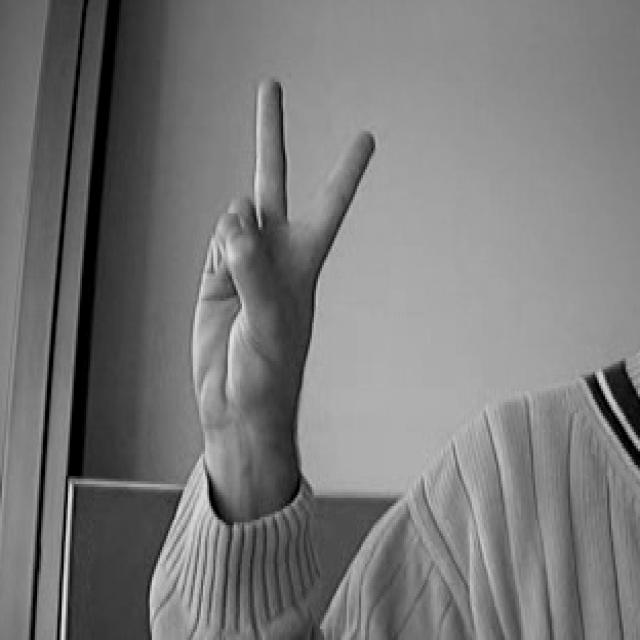V: (134, 61, 409, 468)
